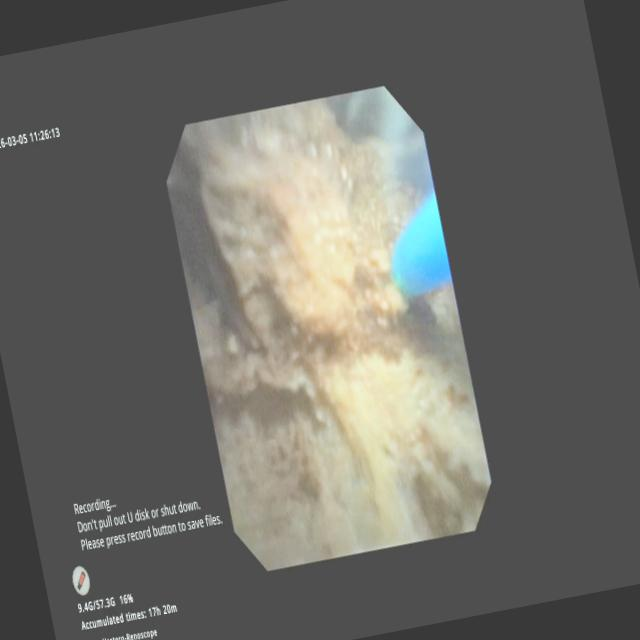stone-new: (167, 98, 491, 566)
